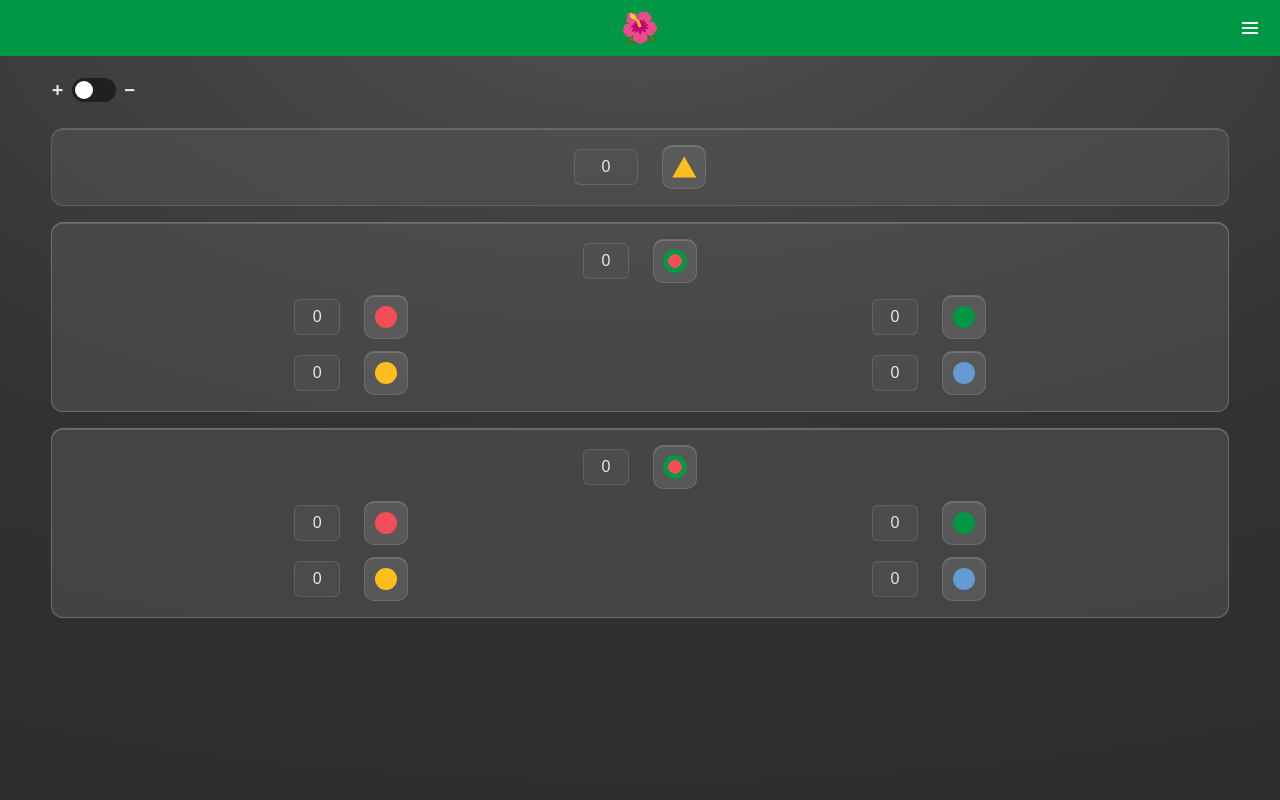
Test case: サイドメニュー › メニュー外（オーバーレイ）押下で閉じる
The image size is (1280, 800).
Click the button named "メニュー" at (1250, 28), box [1228, 6, 1272, 50]
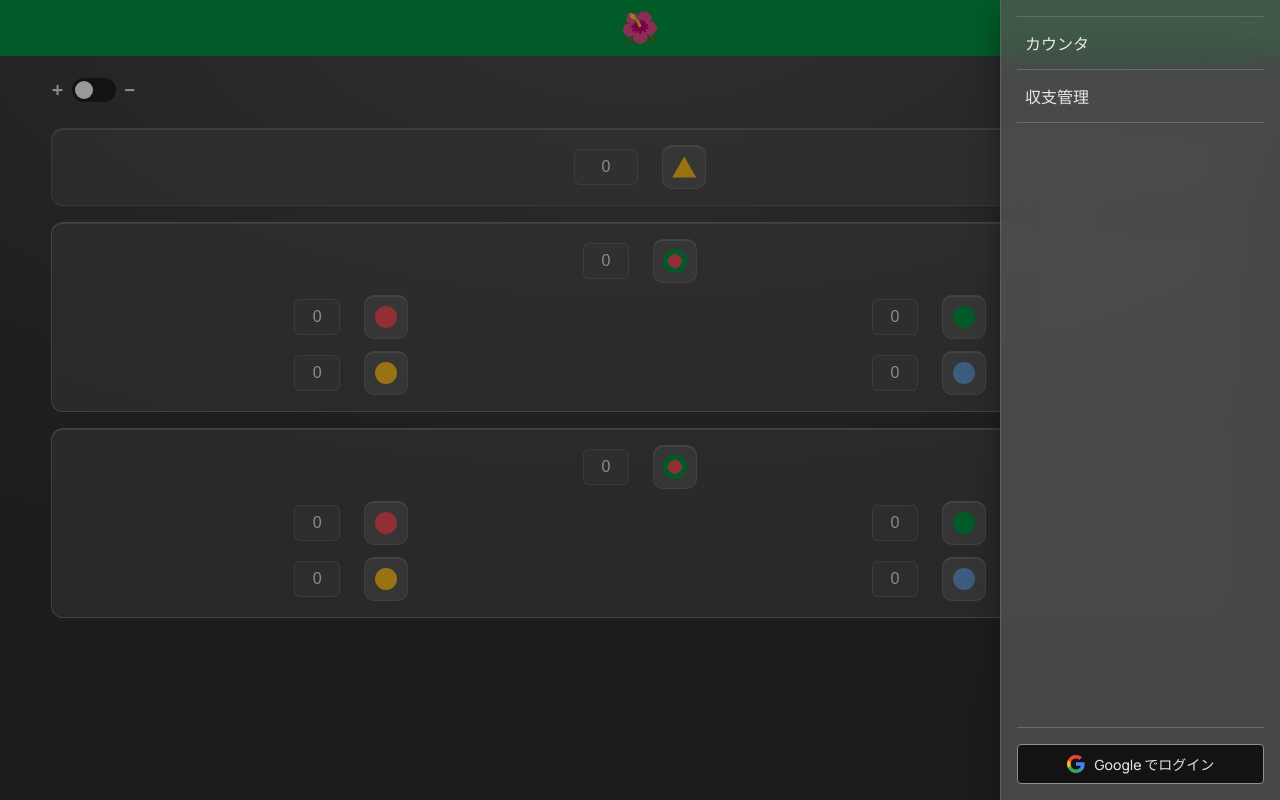
Click the element named "メニューを閉じる" at (640, 400), box [0, 0, 1279, 799]
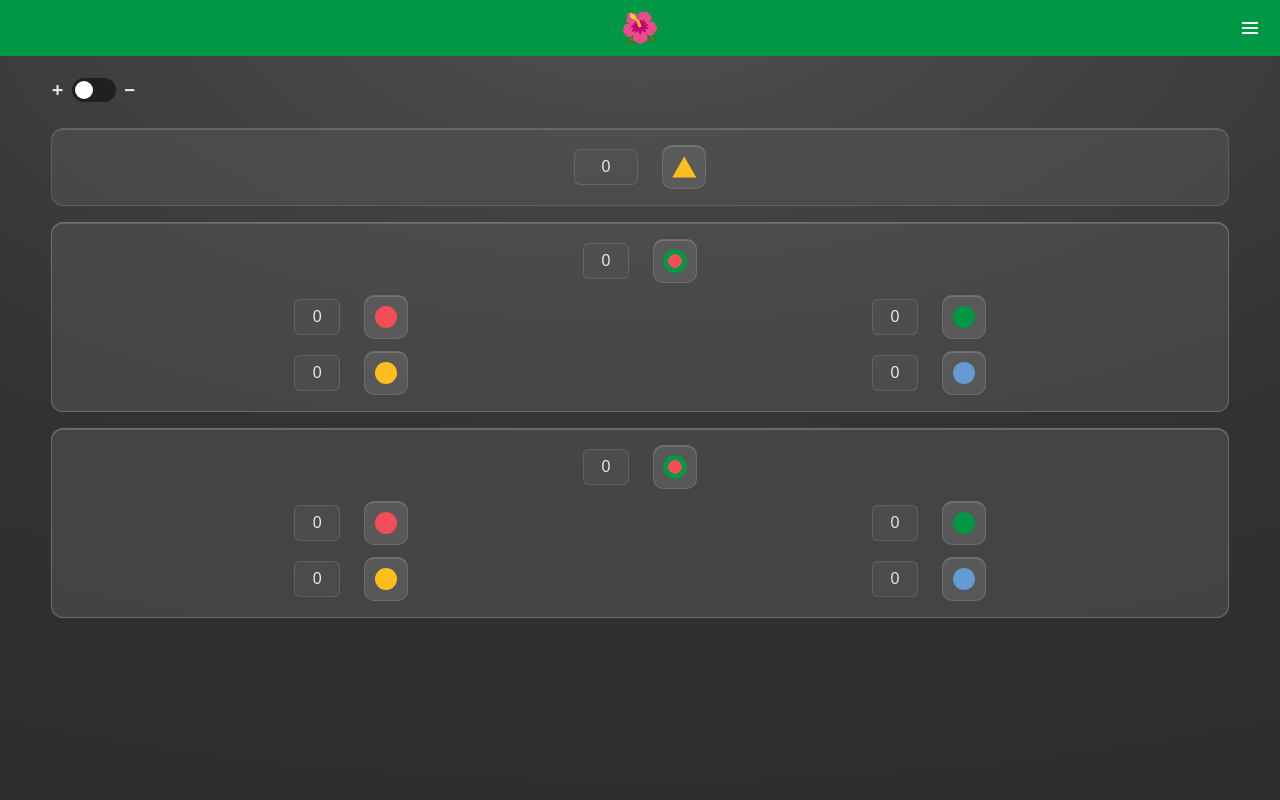
Expected: the link "カウンタ" is gone
